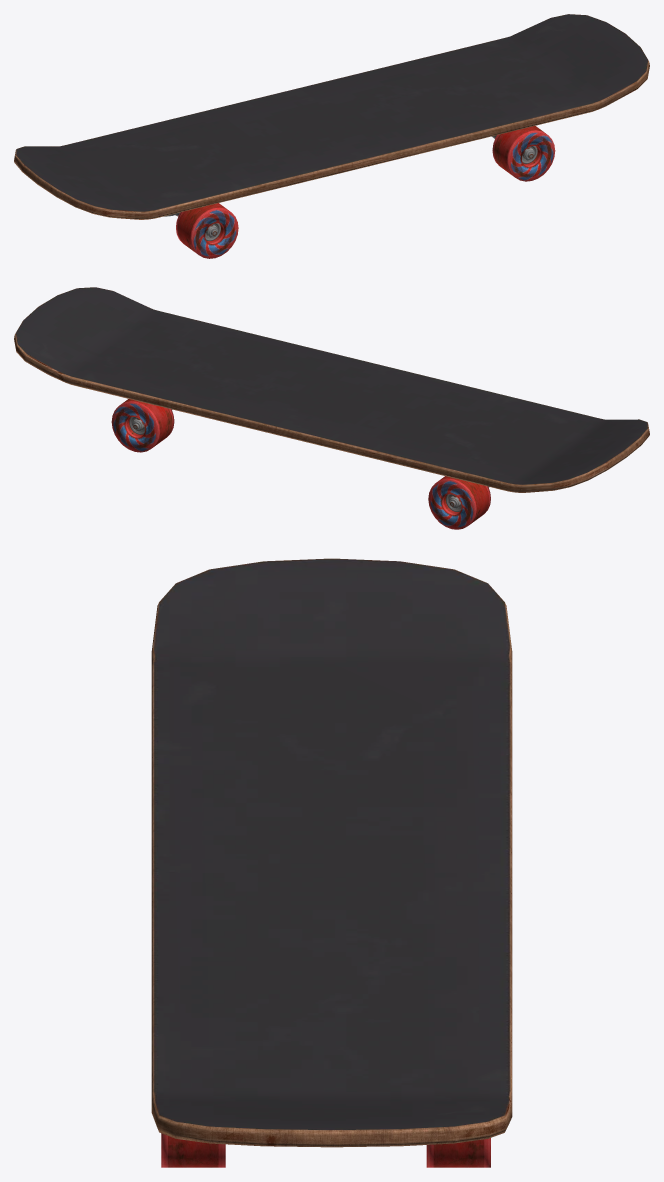
Rendered from skateboard.glb.
3 renders of one model, top to bottom at view 1: azimuth 30°, elevation 25°; view 2: azimuth 150°, elevation 25°; view 3: azimuth 270°, elevation 25°, orthographic. The views are drawn at different scales.
Parts seen in each view (by area): view 1: Board1, pPipe13 (×2); view 2: Board1, pPipe9 (×2); view 3: Board1, pPipe13, pPipe9.
Part boxes in pixels (left/top/right/bottom): Board1: left=14, top=14, right=649, bottom=219; pPipe13 (×2): left=176, top=126, right=555, bottom=258; Board1: left=14, top=287, right=649, bottom=492; pPipe9 (×2): left=111, top=399, right=490, bottom=529; Board1: left=151, top=558, right=512, bottom=1147; pPipe13: left=161, top=1133, right=225, bottom=1167; pPipe9: left=426, top=1138, right=490, bottom=1167.
Bounding box in the file's own units: 9.6 × 1.29 × 2.54.
1 material, 1 textured.
